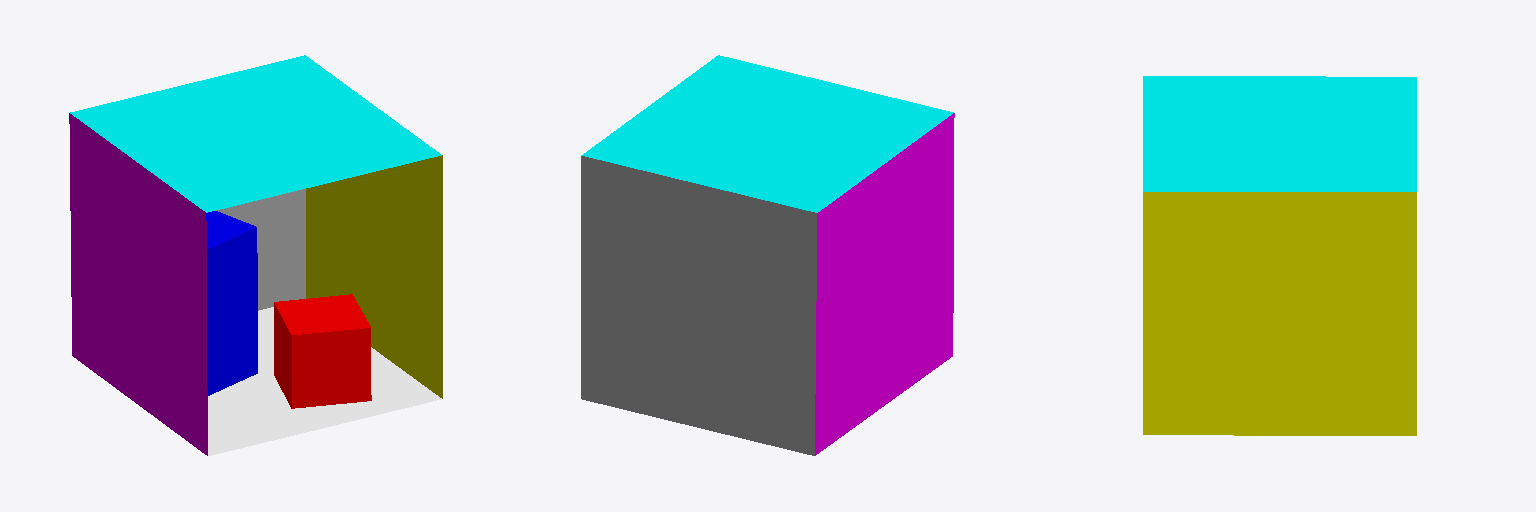
File: textured-cornell-box.obj
3 views of the same model, side by side, from view 1: azimuth 30°, elevation 25°; view 2: azimuth 150°, elevation 25°; view 3: azimuth 270°, elevation 25° (orthographic).
Visible parts, largest first — view 1: left_wall, ceiling, right_wall, floor, short_box, tall_box, back_wall; view 2: back_wall, left_wall, ceiling; view 3: right_wall, ceiling.
Part boxes in pixels (bbox=[...]): left_wall: bbox=[69, 113, 207, 455]; ceiling: bbox=[70, 55, 441, 212]; right_wall: bbox=[306, 155, 442, 398]; floor: bbox=[208, 307, 441, 455]; short_box: bbox=[274, 294, 371, 408]; tall_box: bbox=[206, 211, 257, 395]; back_wall: bbox=[216, 189, 305, 310]; back_wall: bbox=[581, 156, 816, 455]; left_wall: bbox=[815, 113, 954, 455]; ceiling: bbox=[581, 55, 953, 212]; right_wall: bbox=[1143, 192, 1416, 435]; ceiling: bbox=[1143, 76, 1416, 191].
Size of the model in its own units: 5.56 by 5.49 by 5.6.